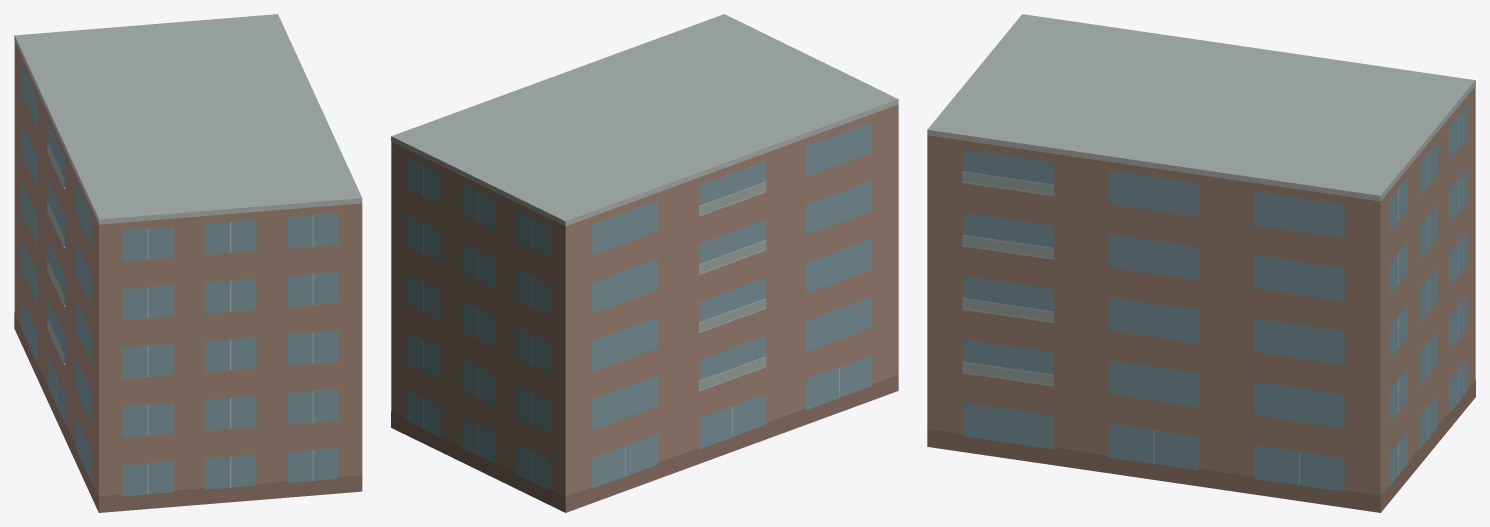
File: survey-upis-32993050.glb
The picture shows the model from 3 angles, left to right: view 1: azimuth 30°, elevation 25°; view 2: azimuth 150°, elevation 25°; view 3: azimuth 270°, elevation 25°; orthographic projection. The views are drawn at different scales.
Parts seen in each view (by area): view 1: survey-upis-32993050.tmp; view 2: survey-upis-32993050.tmp; view 3: survey-upis-32993050.tmp.
Boxes of the visible parts, left/top/right/bottom form: survey-upis-32993050.tmp: left=14, top=14, right=362, bottom=512; survey-upis-32993050.tmp: left=391, top=14, right=898, bottom=512; survey-upis-32993050.tmp: left=927, top=14, right=1475, bottom=512.
Bounding box in the file's own units: 17.23 × 14 × 21.96.
